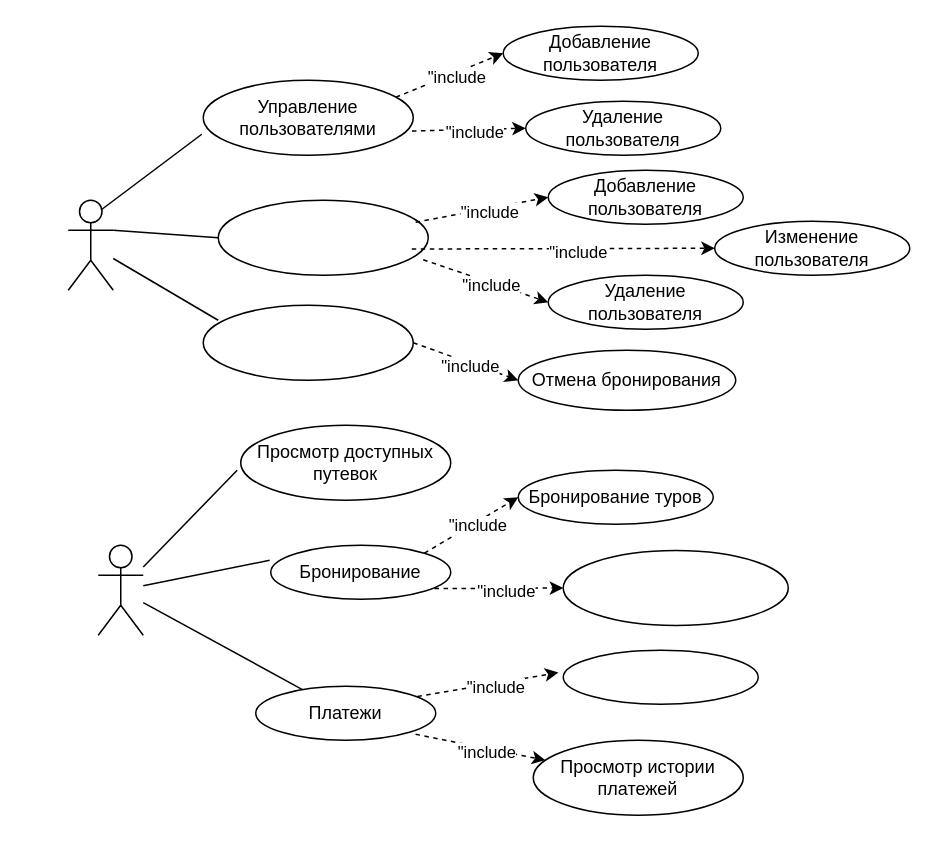
The diagram is 936 pixels wide and 842 high, and some of its shapes have lost their labels. Each missing label, with the centre of its shape:
Администратор: pixel 90 244
Внесение платежей: pixel 660 676
Отслеживание статуса бронирования: pixel 675 587
Пользователь: pixel 120 589
Управление бронированиями: pixel 307 342
Управление путевками: pixel 322 237
